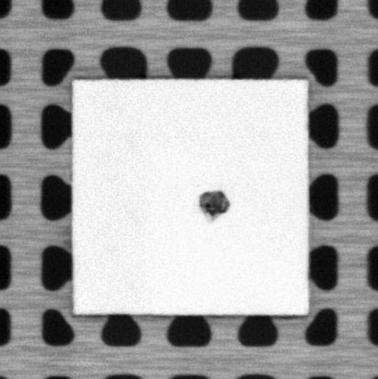DIE_INK: (198, 190, 232, 218)
